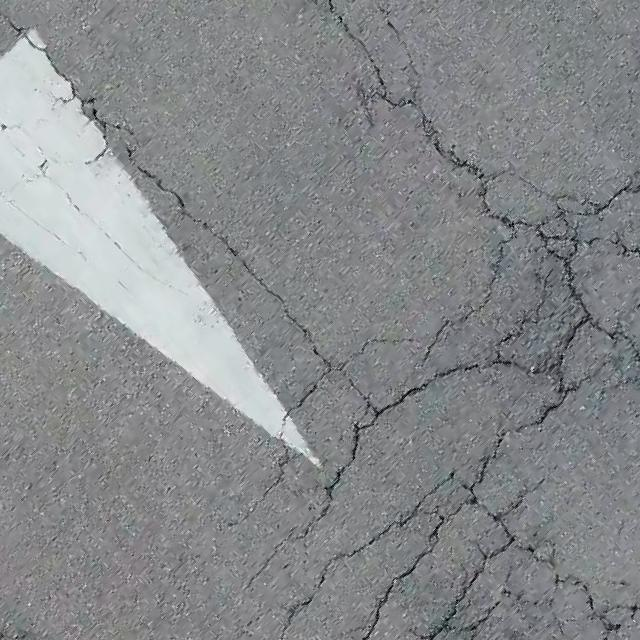GRIETA: (3, 16, 327, 359), (323, 0, 469, 171), (385, 14, 418, 99)
PIEL DE COCODRILO: (226, 159, 639, 639)
